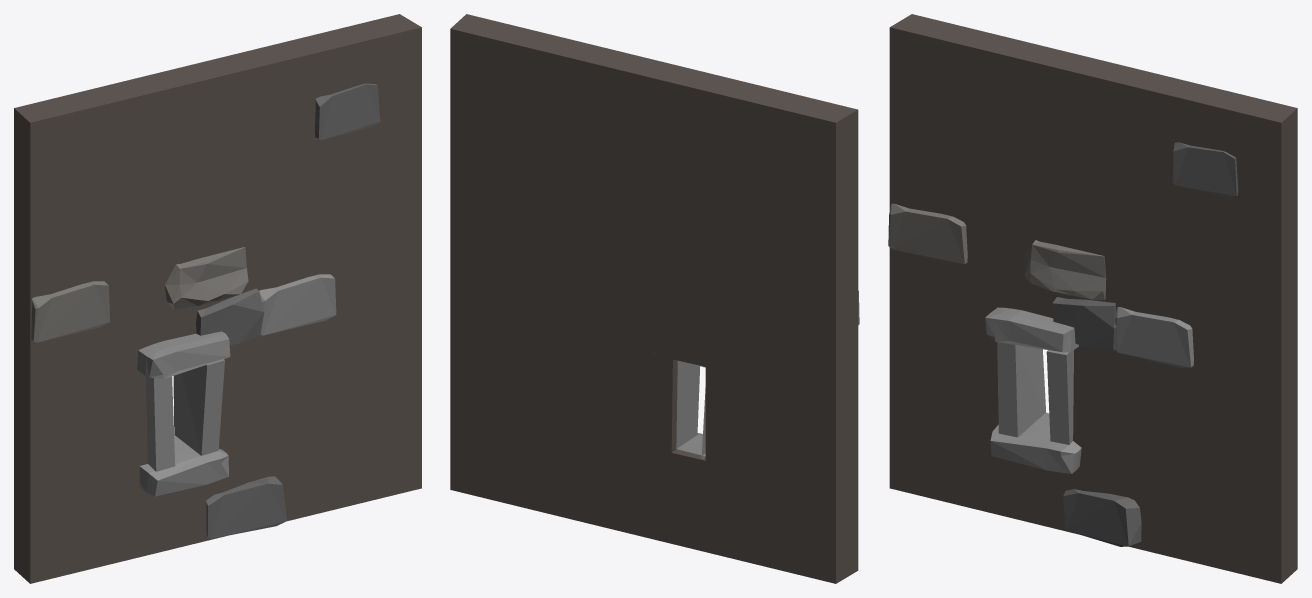
Rendered from MCastle_SquareWalls_SmallWindow.FBX.
The picture shows the model from 3 angles, left to right: view 1: azimuth 30°, elevation 25°; view 2: azimuth 150°, elevation 25°; view 3: azimuth 330°, elevation 25°; orthographic projection.
Visible parts, largest first — view 1: MCastle_SquareWalls_SmallWindow_LOD0; view 2: MCastle_SquareWalls_SmallWindow_LOD0; view 3: MCastle_SquareWalls_SmallWindow_LOD0.
Boxes of the visible parts, x1,y1,x2,y2 form: MCastle_SquareWalls_SmallWindow_LOD0: [14, 14, 421, 583]; MCastle_SquareWalls_SmallWindow_LOD0: [450, 14, 859, 583]; MCastle_SquareWalls_SmallWindow_LOD0: [888, 14, 1297, 583].
Size of what is drawn, in the model's own units: 4 by 4.5 by 0.586.
